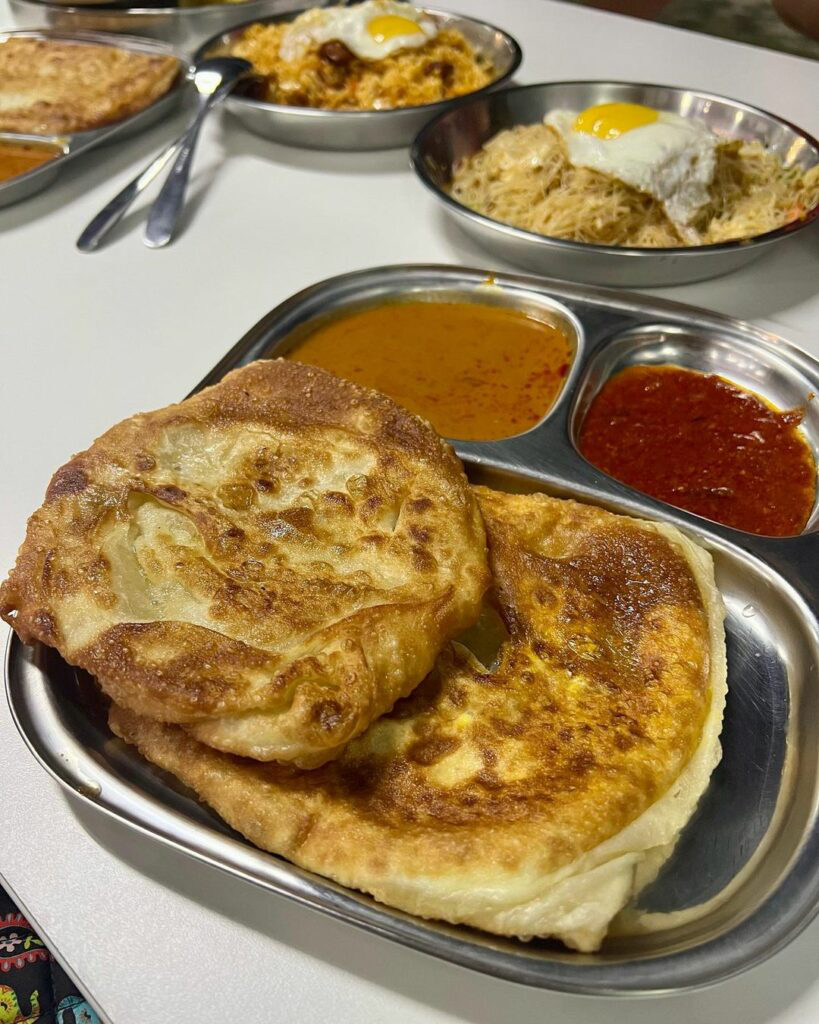Prata: (149, 506, 755, 952), (46, 350, 474, 749)
